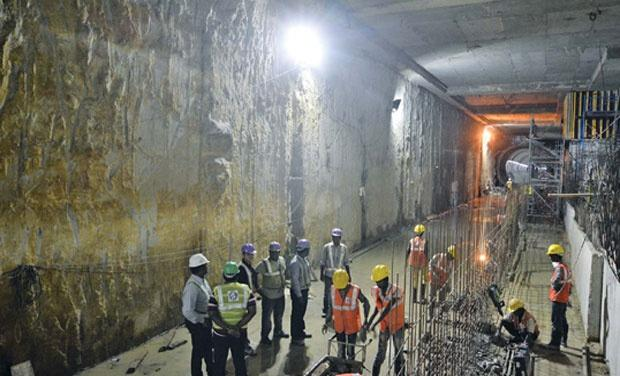Helmet: (371, 264, 390, 284), (547, 244, 564, 262)
Vest: (214, 284, 251, 331), (374, 287, 404, 330), (331, 286, 359, 332), (547, 263, 574, 302)
